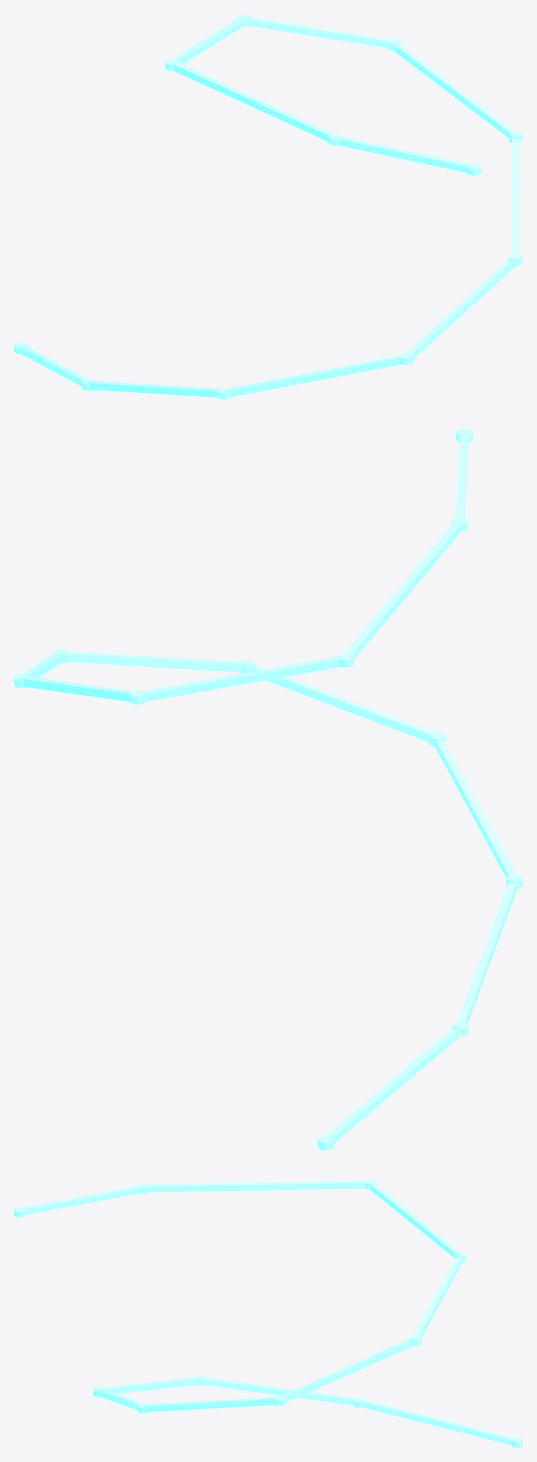
The model's file is hall_ov_rail.glb.
The picture shows the model from 3 angles, top to bottom: view 1: azimuth 30°, elevation 25°; view 2: azimuth 150°, elevation 25°; view 3: azimuth 270°, elevation 25°; orthographic projection. The views are drawn at different scales.
Parts seen in each view (by area): view 1: hall_ov_rail; view 2: hall_ov_rail; view 3: hall_ov_rail.
Part boxes in pixels (x1,y1,x2,y2): hall_ov_rail: [14, 14, 522, 399]; hall_ov_rail: [14, 428, 522, 1150]; hall_ov_rail: [14, 1179, 522, 1447].
Size of the model in its own units: 35.02 by 30.05 by 45.02.
